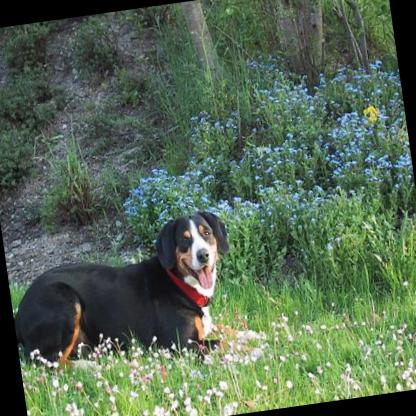EntleBucher: (3, 203, 266, 386)
